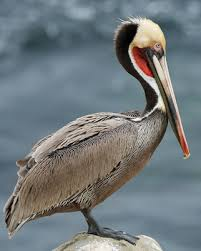pelican: (6, 17, 190, 242)
